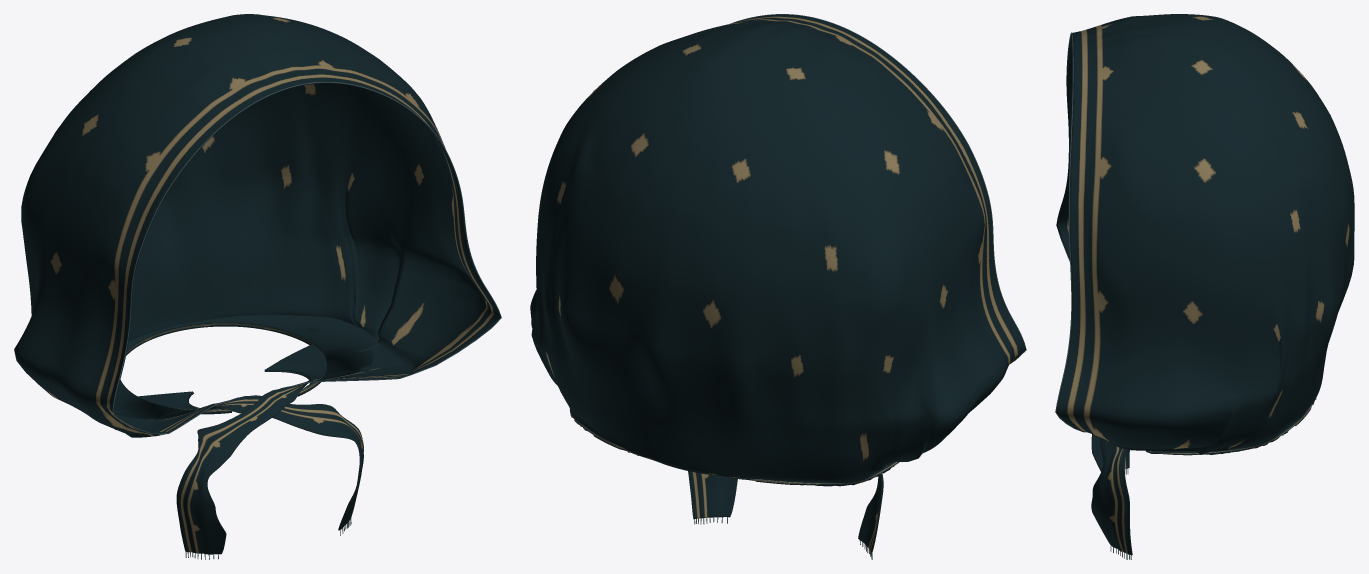
The model's file is Feminine-straight-strappy-pashmina249-headgear.glb.
The picture shows the model from 3 angles, left to right: view 1: azimuth 30°, elevation 25°; view 2: azimuth 150°, elevation 25°; view 3: azimuth 270°, elevation 25°; orthographic projection. The views are drawn at different scales.
Parts seen in each view (by area): view 1: 226 headgear / Headwear / continuous woven pashmina239, 226 headgear / Headwear / face edge239; view 2: 226 headgear / Headwear / continuous woven pashmina239, 226 headgear / Headwear / face edge239; view 3: 226 headgear / Headwear / continuous woven pashmina239, 226 headgear / Headwear / face edge239.
Boxes of the visible parts, x1,y1,x2,y2 form: 226 headgear / Headwear / continuous woven pashmina239: (14,14,500,554); 226 headgear / Headwear / face edge239: (112,82,501,434); 226 headgear / Headwear / continuous woven pashmina239: (530,14,1025,553); 226 headgear / Headwear / face edge239: (730,14,1026,363); 226 headgear / Headwear / continuous woven pashmina239: (1056,14,1354,555); 226 headgear / Headwear / face edge239: (1055,32,1085,432).
Size of the model in its own units: 1.25 by 1.41 by 0.7802.
3 materials, 1 textured.
